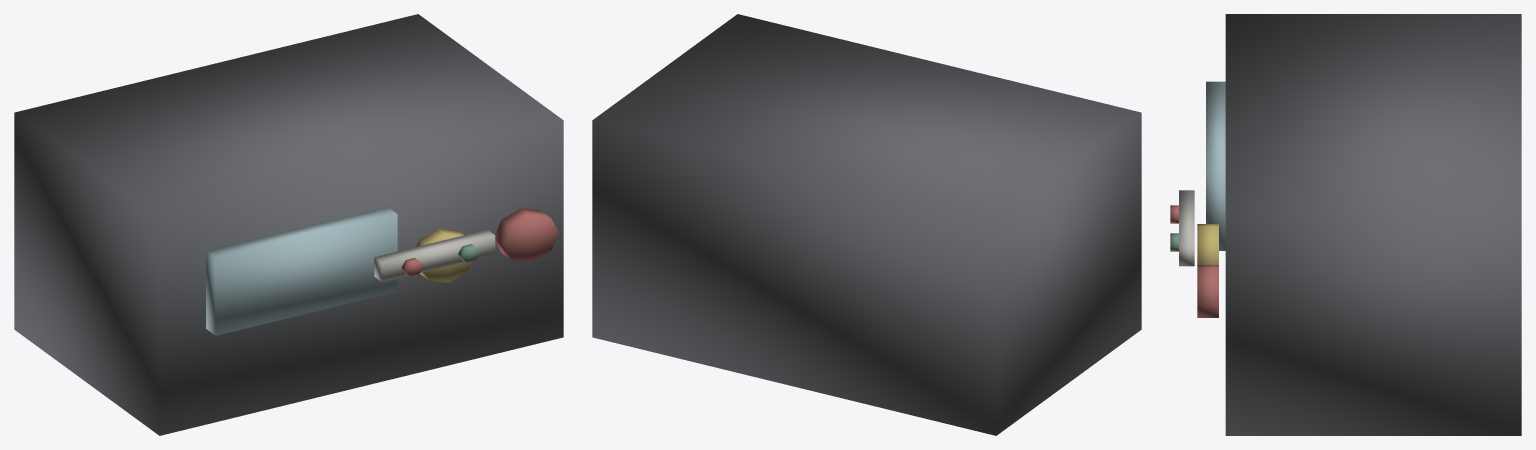
File: component_tester__wide.glb
3 renders of one model, left to right at view 1: azimuth 30°, elevation 25°; view 2: azimuth 150°, elevation 25°; view 3: azimuth 270°, elevation 25°, orthographic.
Visible parts, largest first — view 1: world; view 2: world; view 3: world.
Part boxes in pixels (x1,y1,x2,y2): world: (14,14,563,435); world: (592,14,1141,435); world: (1170,14,1521,435).
Size of the model in its own units: 0.5456 by 0.28 by 0.4035.
